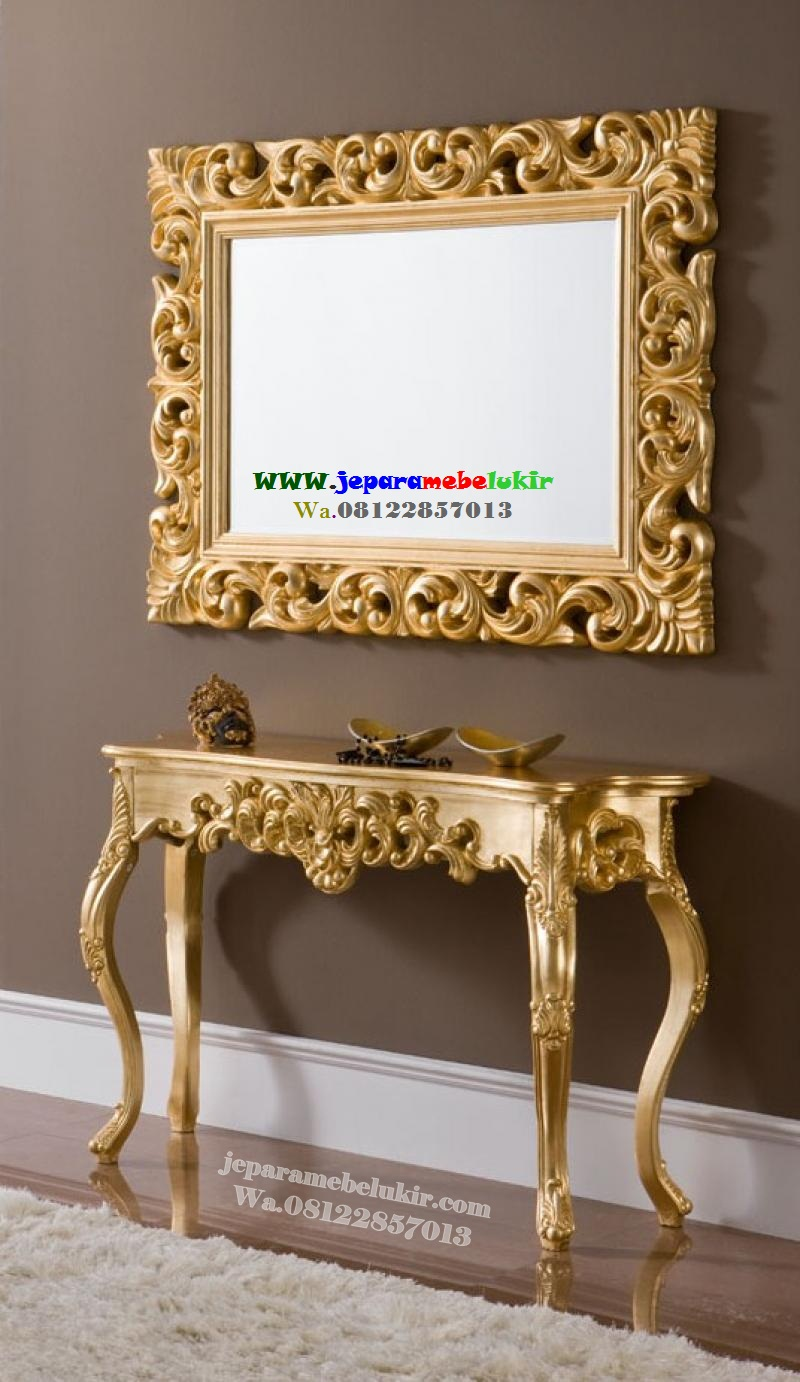Carving Table: (84, 707, 778, 1263)
